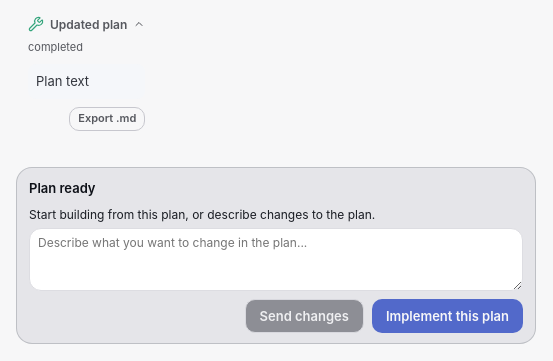
Messages › dismisses the plan-ready follow-up when the plan is accepted
Click the button "Implement this plan" at (448, 316), box [372,299,523,333]
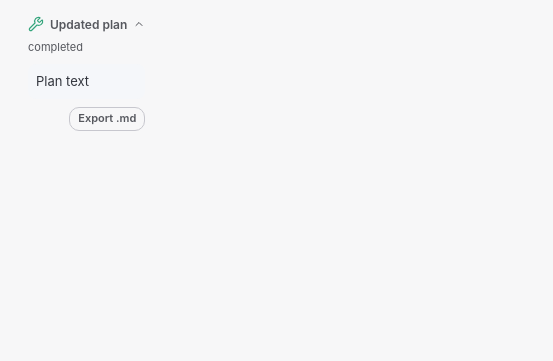
Result: the text "Plan ready" is gone
